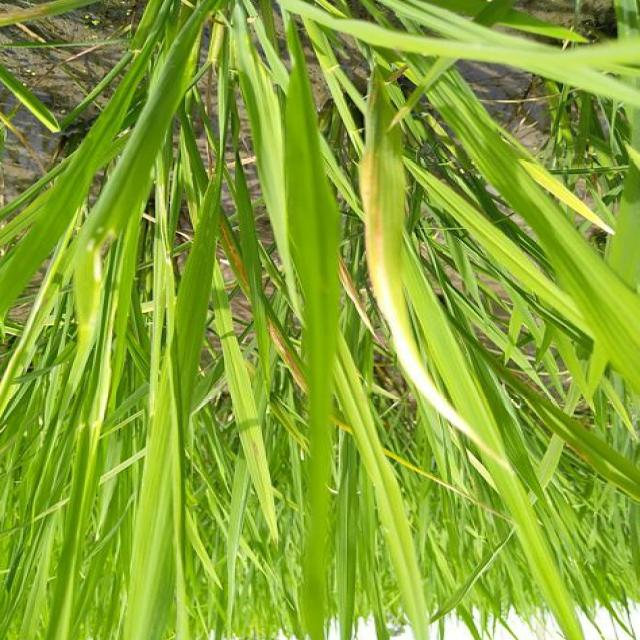Leaf Blight: (362, 68, 514, 479), (383, 447, 508, 518), (518, 158, 614, 234), (340, 259, 389, 352), (266, 310, 306, 391), (220, 218, 251, 301), (331, 415, 354, 433)
